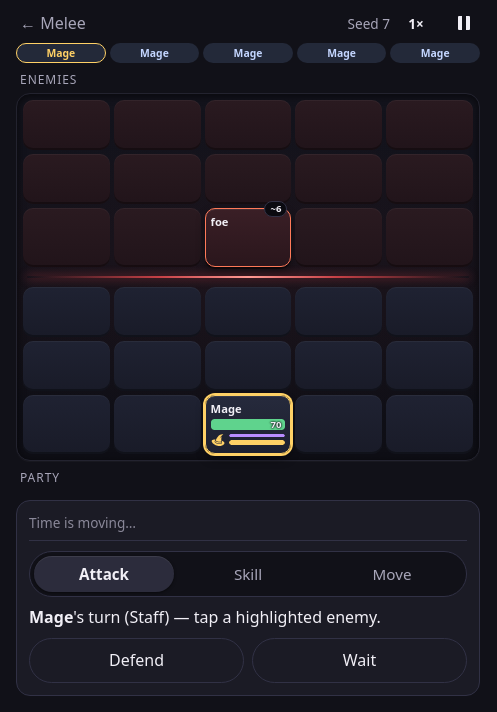
Test case: BattleScreen › given the mage asked, when the Skill tab opens, then it asks for a skill
Expected: the element named "Action" is shown, [29, 551, 467, 597]
Click the button "Skill" at x=248, y=574, box [178, 556, 318, 592]
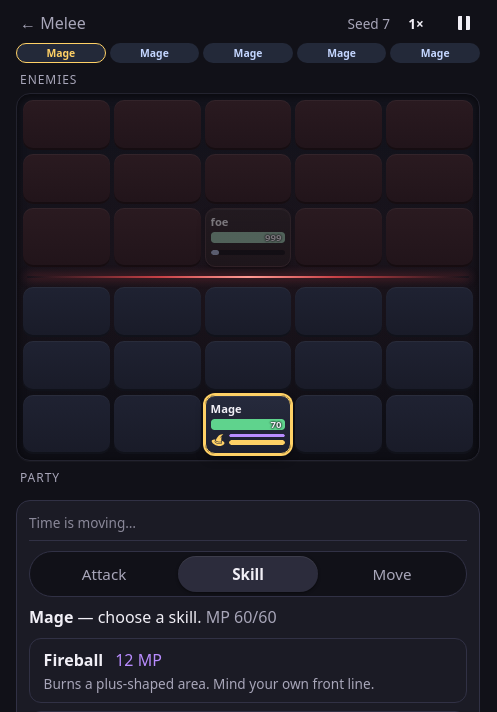
Expected: the text "Mage — choose a skill. MP 60/60" is shown, [29, 606, 277, 628]
